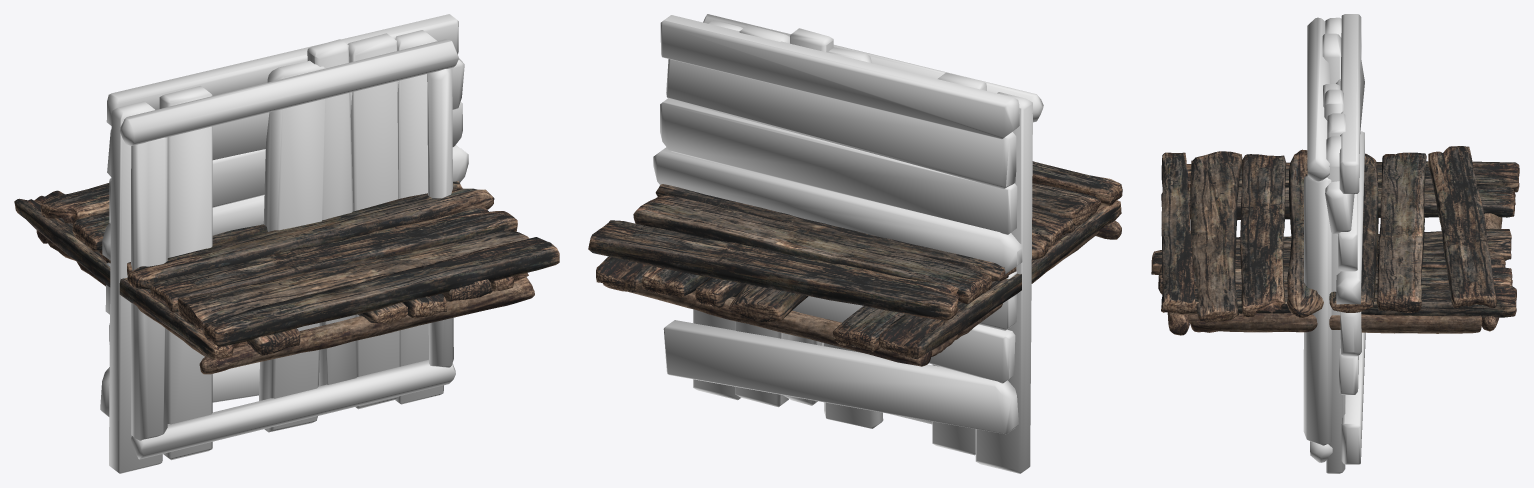
The model's file is SM_Deck_FlagPole.fbx.
The picture shows the model from 3 angles, left to right: view 1: azimuth 30°, elevation 25°; view 2: azimuth 150°, elevation 25°; view 3: azimuth 270°, elevation 25°; orthographic projection. The views are drawn at different scales.
Visible parts, largest first — view 1: SM_Deck_FlagPole_ConvexHulls, SM_Deck_FlagPole; view 2: SM_Deck_FlagPole_ConvexHulls, SM_Deck_FlagPole; view 3: SM_Deck_FlagPole, SM_Deck_FlagPole_ConvexHulls.
Boxes of the visible parts, bbox=[...] form: SM_Deck_FlagPole_ConvexHulls: bbox=[100, 14, 468, 473]; SM_Deck_FlagPole: bbox=[14, 181, 559, 374]; SM_Deck_FlagPole_ConvexHulls: bbox=[653, 14, 1043, 473]; SM_Deck_FlagPole: bbox=[588, 161, 1122, 366]; SM_Deck_FlagPole: bbox=[1151, 146, 1519, 335]; SM_Deck_FlagPole_ConvexHulls: bbox=[1303, 14, 1365, 473].
Size of the model in its own units: 3.08 by 3.07 by 3.06.
